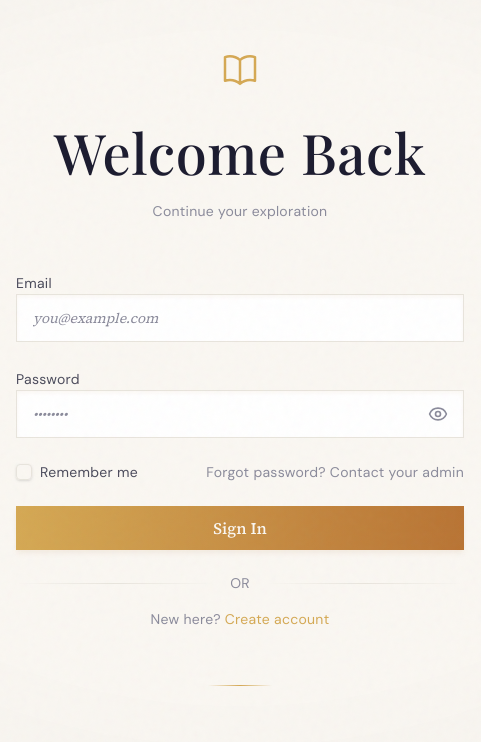
LoginPage › Error Handling › should display server error message
The width and height of the screenshot is (481, 742).
In the field labelled "Email": (240, 318) [16, 294, 464, 342], type "test@example.com"
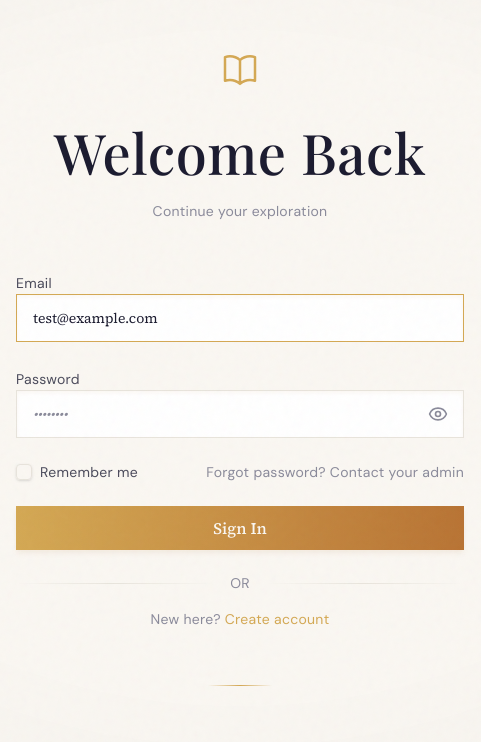
In the password field labelled "Password": (240, 414) [16, 390, 464, 438], type "wrongpassword"
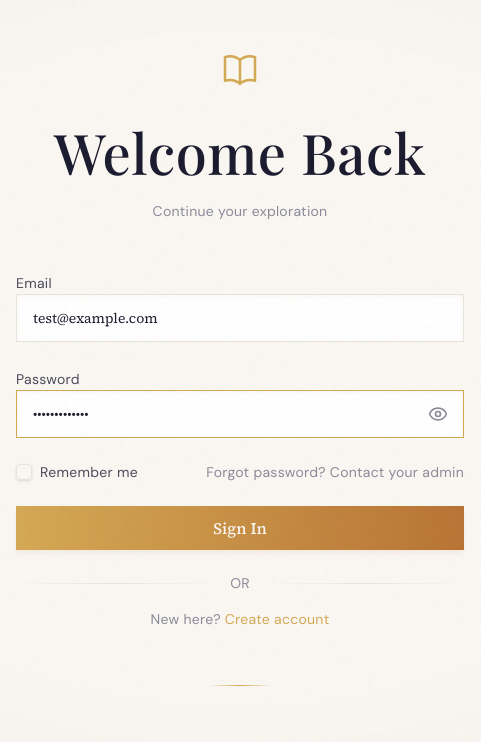
Click the button "Sign In": (240, 528) [16, 506, 464, 550]
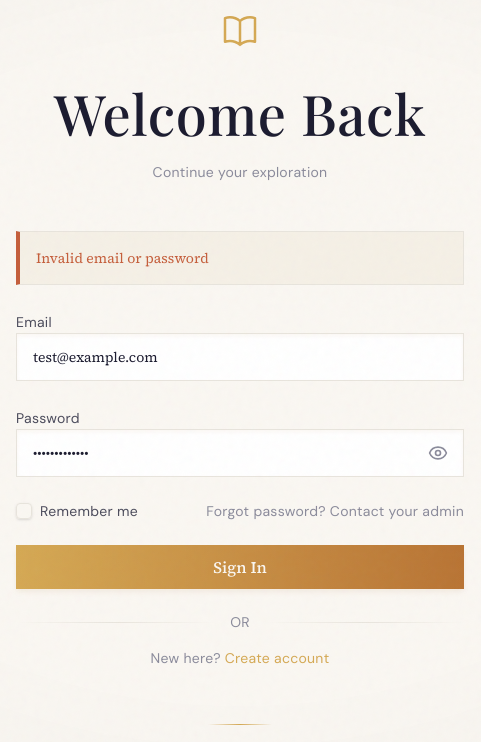
Expected: the text "Invalid email or password" is shown, [16, 231, 464, 285]
